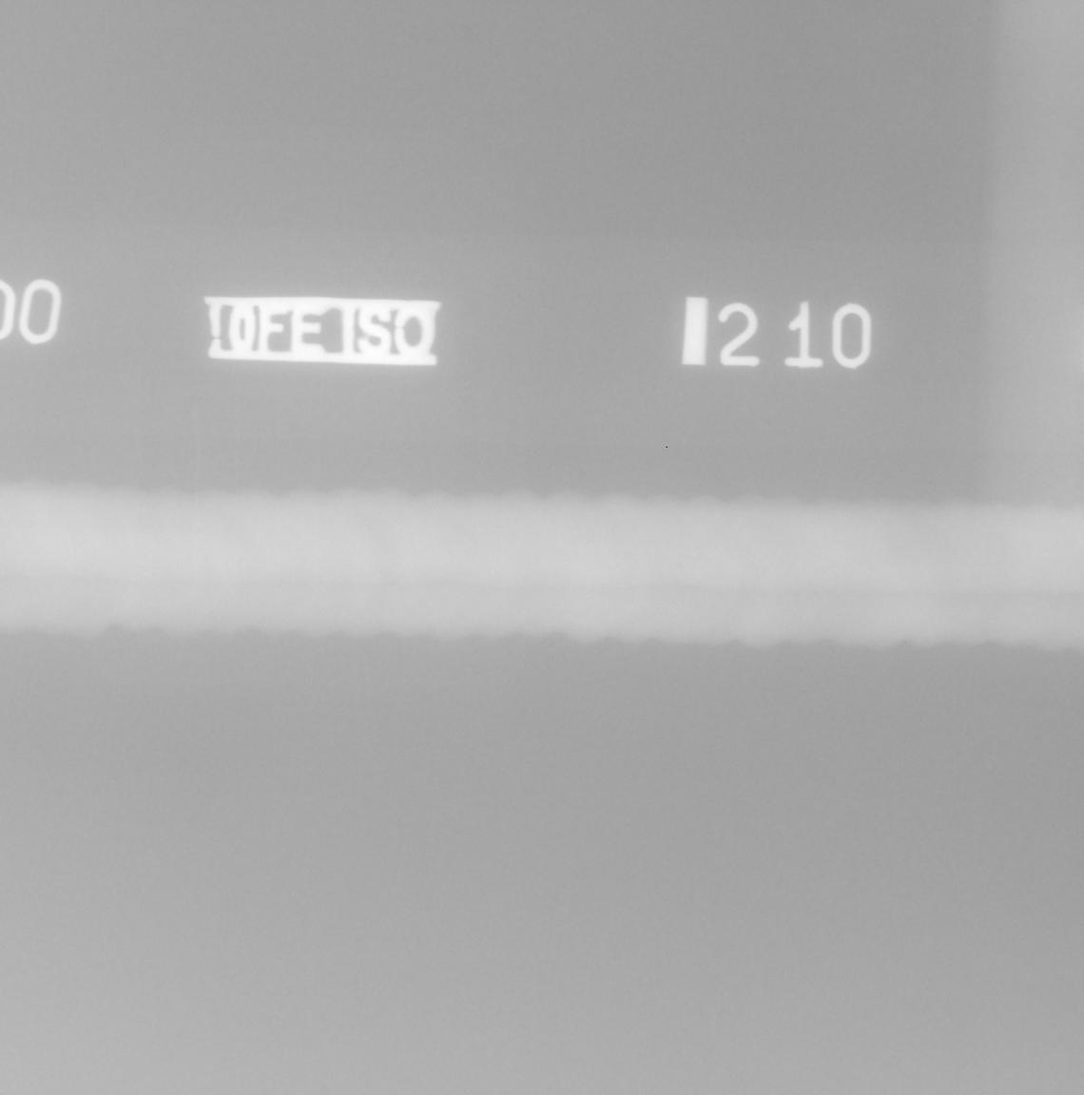Pore/Porosity: (675, 562, 683, 569), (814, 590, 819, 593), (795, 592, 798, 596)
